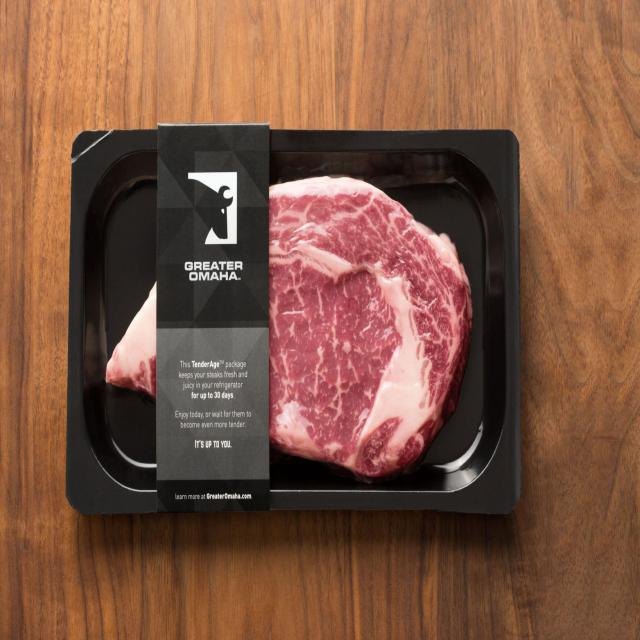pork: (69, 118, 516, 524)
